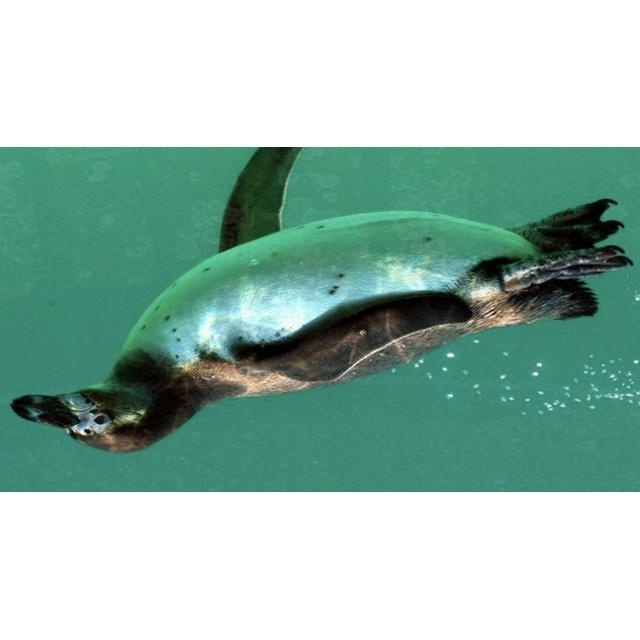penguin: (10, 149, 634, 453)
